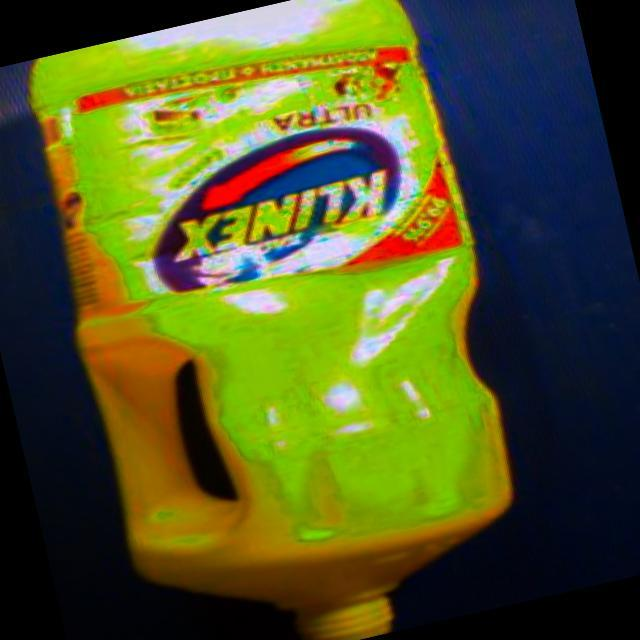HDPE Plastic: (24, 1, 520, 638)
